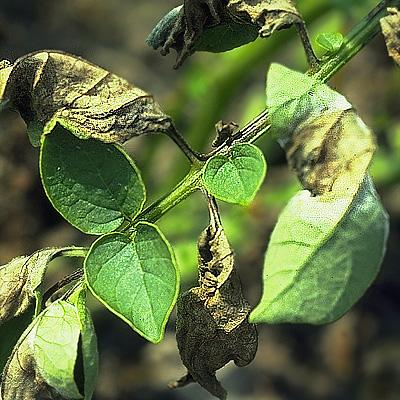Potato leaf: (260, 62, 400, 347), (164, 195, 266, 400), (1, 46, 173, 150), (139, 1, 304, 56)
